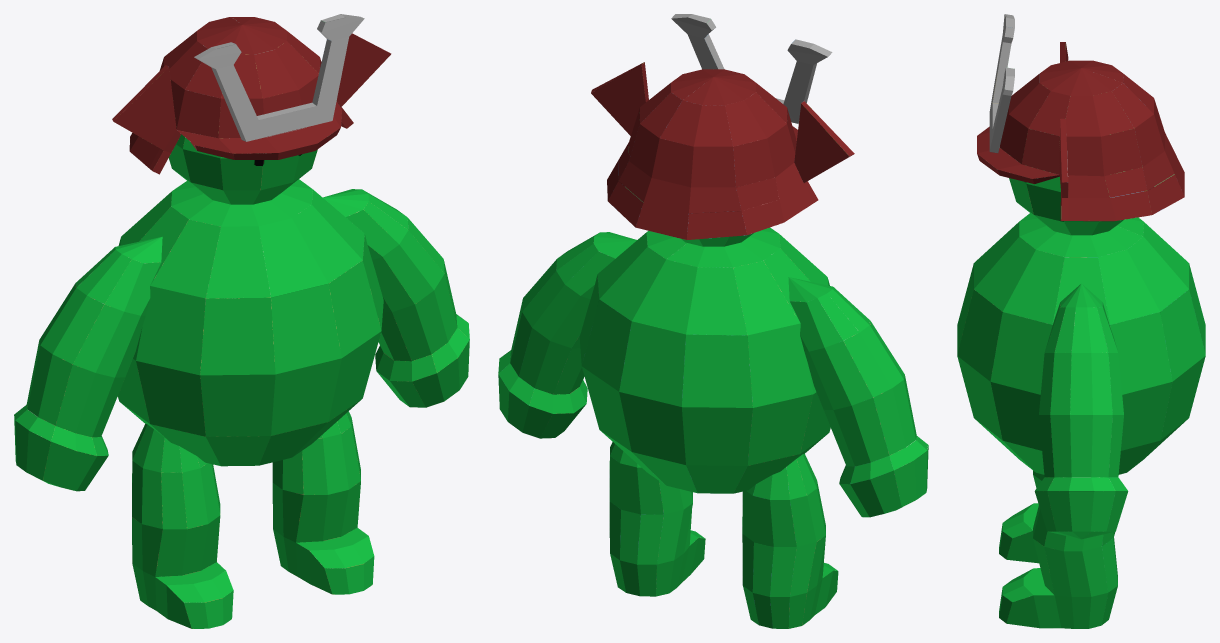
Rendered from nebaneba.obj.
The picture shows the model from 3 angles, left to right: view 1: azimuth 30°, elevation 25°; view 2: azimuth 150°, elevation 25°; view 3: azimuth 270°, elevation 25°; orthographic projection. The views are drawn at different scales.
Visible parts, largest first — view 1: torso, arm, leg, helmet, plane, head; view 2: torso, arm, helmet, leg, plane; view 3: torso, helmet, arm, leg, head, plane.
Part boxes in pixels (<box>): torso: <box>117,179,383,466</box>; arm: <box>14,189,469,491</box>; leg: <box>132,411,374,628</box>; helmet: <box>112,17,391,174</box>; plane: <box>194,14,364,141</box>; head: <box>169,134,317,204</box>; torso: <box>579,227,830,493</box>; arm: <box>498,232,928,517</box>; helmet: <box>591,62,854,239</box>; leg: <box>609,442,838,628</box>; plane: <box>671,14,832,123</box>; torso: <box>957,213,1205,474</box>; helmet: <box>977,42,1184,221</box>; arm: <box>1034,283,1128,539</box>; leg: <box>999,470,1117,628</box>; head: <box>1009,176,1123,235</box>; plane: <box>989,14,1014,153</box>.
Size of the model in its own units: 0.6677 by 0.8356 by 0.35.
1 material, 1 textured.
